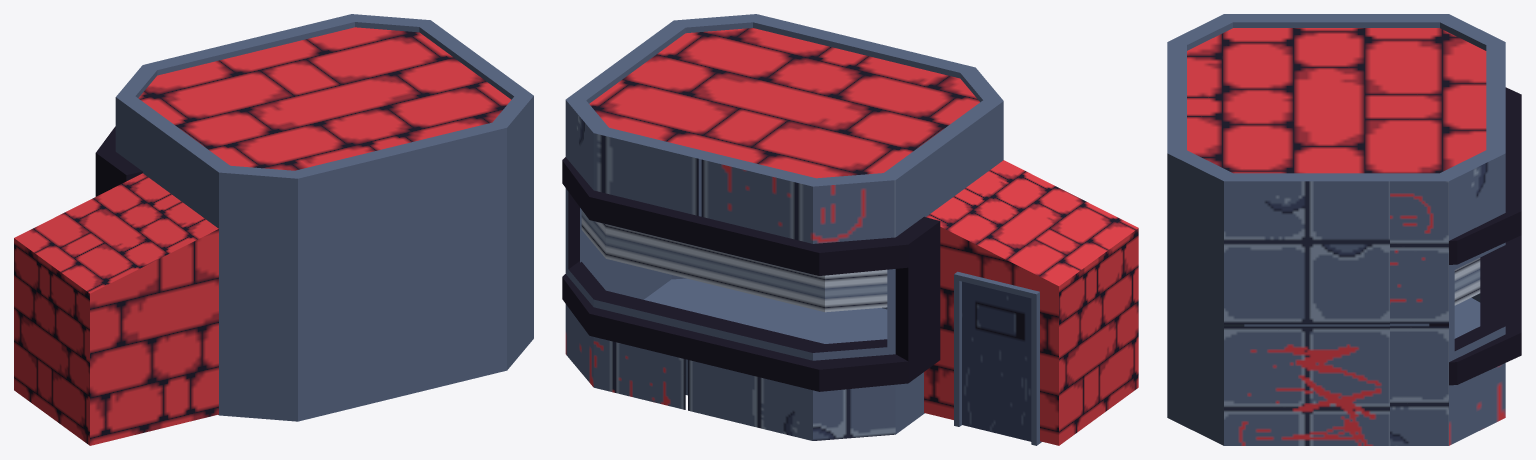
File: Bunker.fbx
The picture shows the model from 3 angles, left to right: view 1: azimuth 30°, elevation 25°; view 2: azimuth 150°, elevation 25°; view 3: azimuth 270°, elevation 25°; orthographic projection. The views are drawn at different scales.
Parts seen in each view (by area): view 1: Bunker; view 2: Bunker; view 3: Bunker.
Boxes of the visible parts, box(x1,y1,x2,y2) form: Bunker: box(14, 14, 533, 445); Bunker: box(562, 14, 1138, 445); Bunker: box(1167, 14, 1521, 445).
Bounding box in the file's own units: 928 × 589 × 488.
